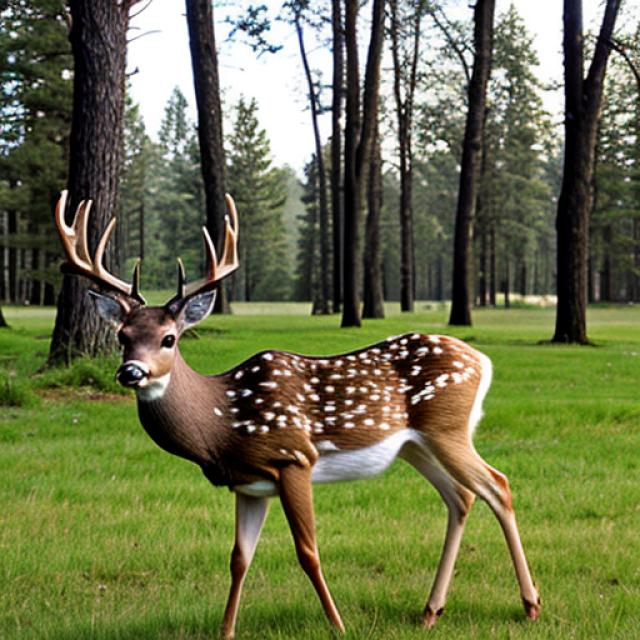deer: (30, 187, 536, 615)
